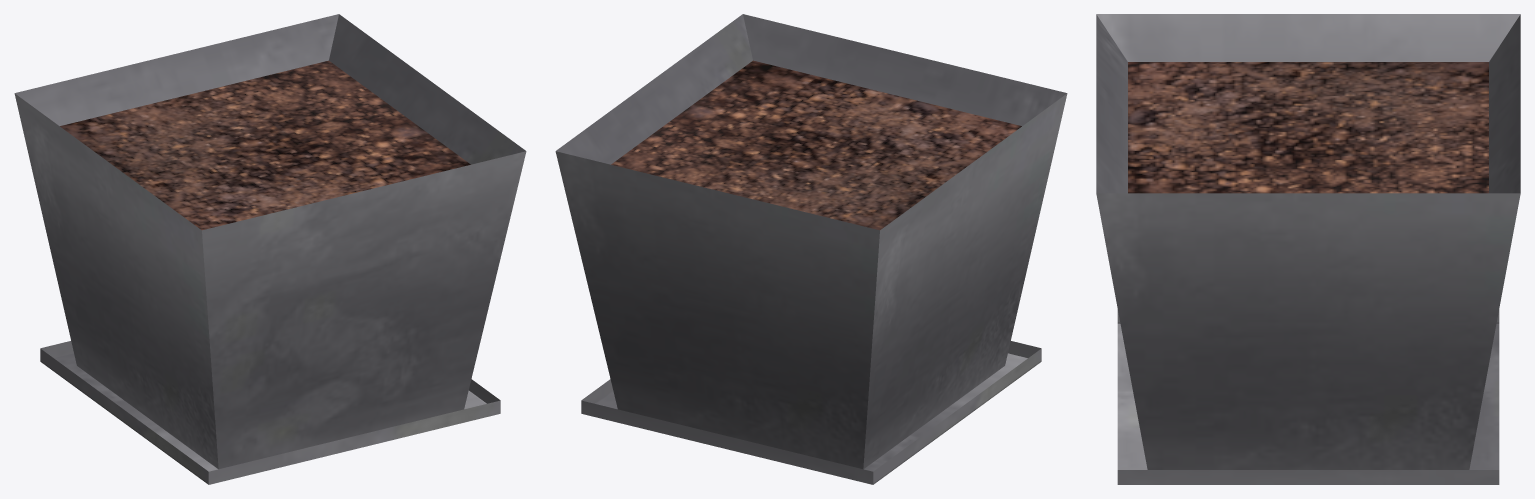
File: pot.obj
3 views of the same model, side by side, from view 1: azimuth 30°, elevation 25°; view 2: azimuth 150°, elevation 25°; view 3: azimuth 270°, elevation 25° (orthographic). The views are drawn at different scales.
Visible parts, largest first — view 1: pot; view 2: pot; view 3: pot.
Boxes of the visible parts, x1,y1,x2,y2 form: pot: [14, 14, 526, 484]; pot: [555, 14, 1067, 484]; pot: [1096, 14, 1520, 484].
Bounding box in the file's own units: 0.6203 × 0.4848 × 0.6203.
Materials: 1 (1 with a texture image).
